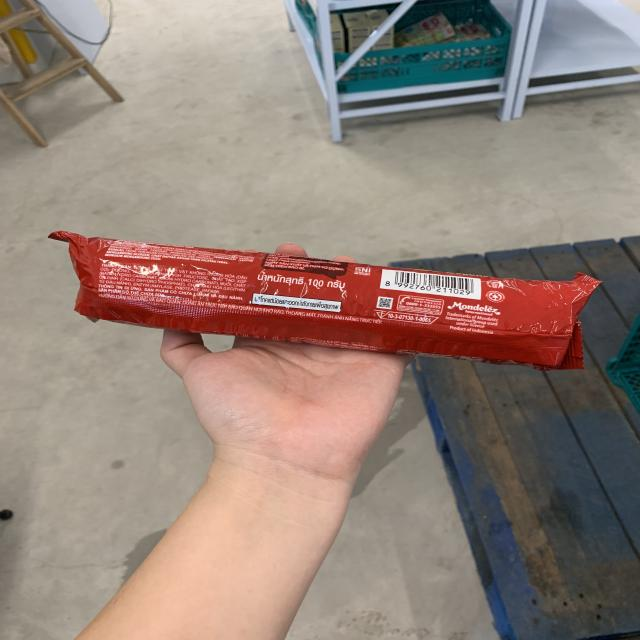object_name: (51, 233, 599, 365)
